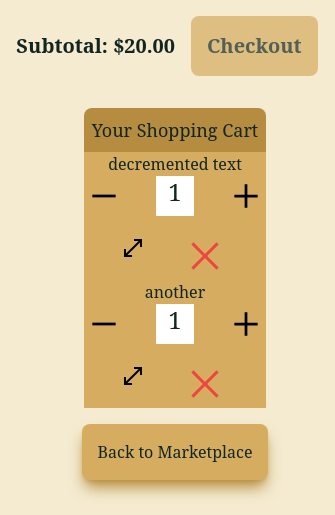
Test: Cart increments and decrements itemsAmount and adjusts price accordingly › Item amount goes down when pressing the decrement button
Expected: the text with test id "amount.default" reads "1", 168,175 -> 182,208
Click the button named "decrement.default".
click(104, 196)  # box 84,176 -> 124,216
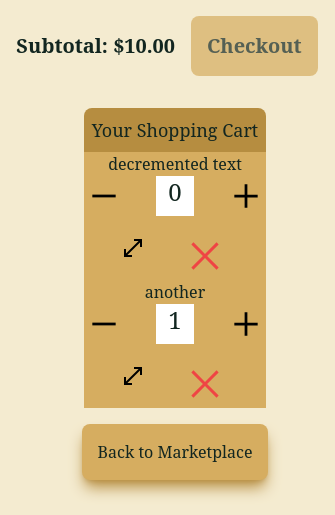
Expected: the text with test id "amount.another" reads "1", 168,303 -> 182,336
Now the text with test id "amount.default" reads "0", box 168,175 -> 182,208
